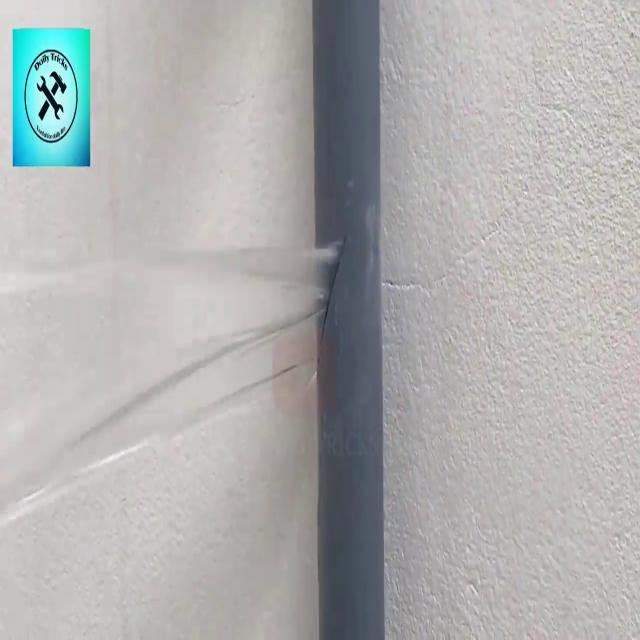leak: (0, 239, 345, 533)
